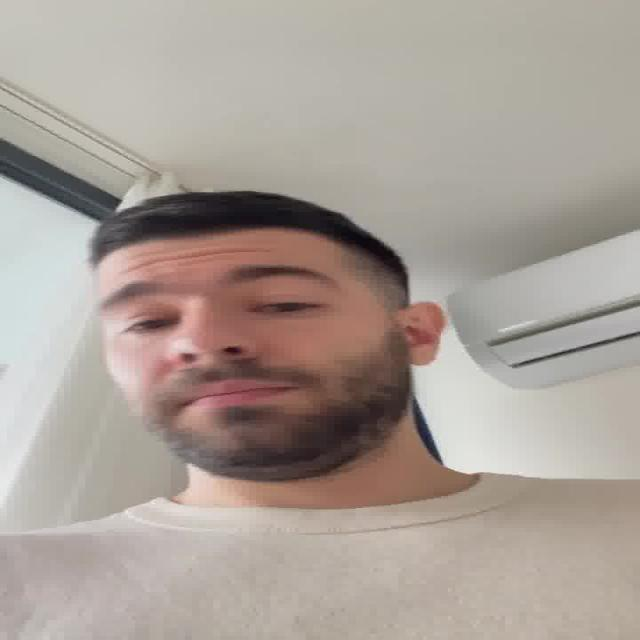earlobe: (406, 302, 444, 366)
